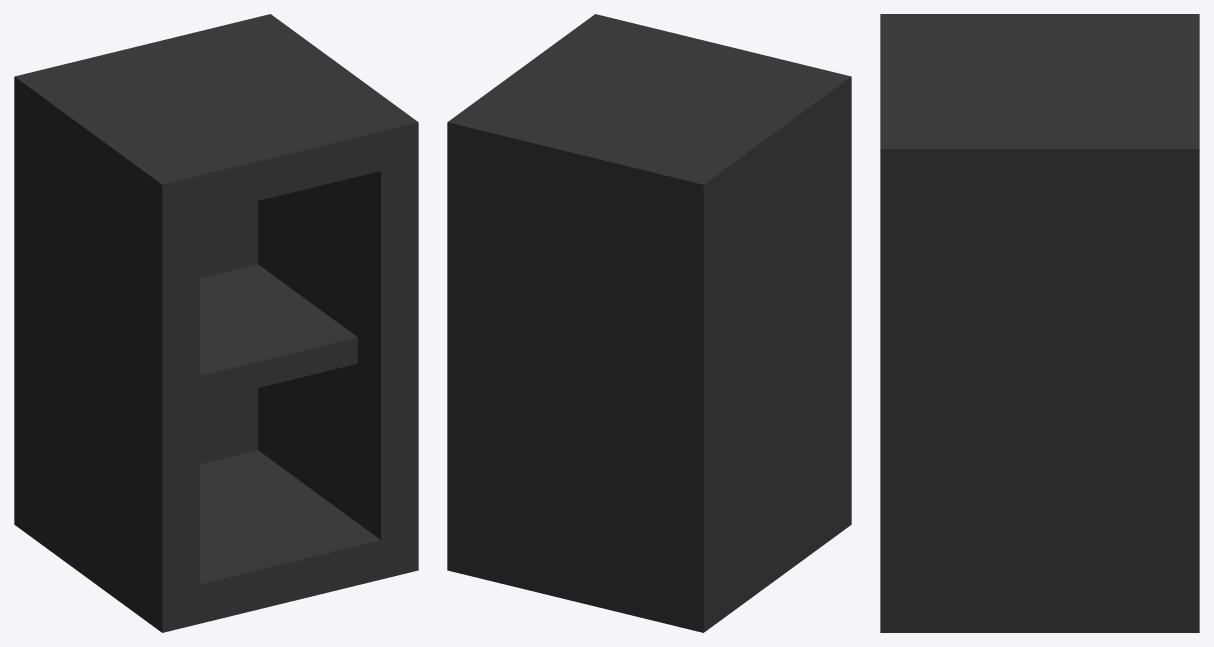
File: SM_Props_Safe_01.fbx
3 views of the same model, side by side, from view 1: azimuth 30°, elevation 25°; view 2: azimuth 150°, elevation 25°; view 3: azimuth 270°, elevation 25° (orthographic). The views are drawn at different scales.
Parts seen in each view (by area): view 1: SM_Props_Safe_01; view 2: SM_Props_Safe_01; view 3: SM_Props_Safe_01.
Boxes of the visible parts, x1,y1,x2,y2 form: SM_Props_Safe_01: (14,14,418,632); SM_Props_Safe_01: (447,14,851,632); SM_Props_Safe_01: (880,14,1199,632).
Bounding box in the file's own units: 0.5052 × 0.8445 × 0.5052.
